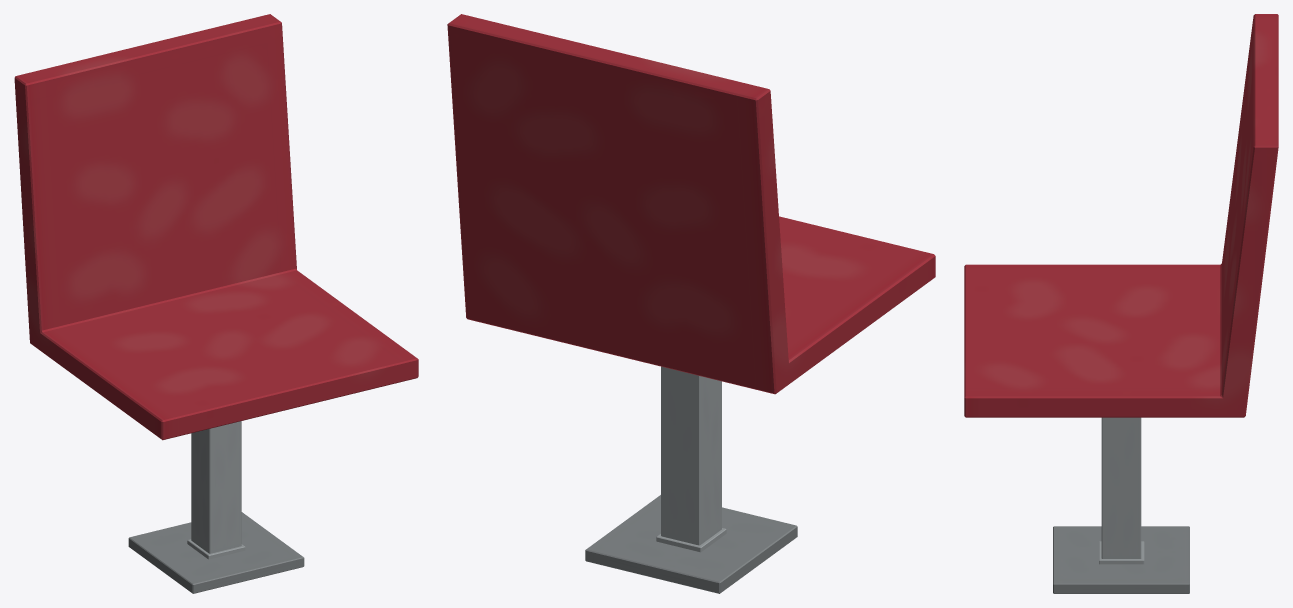
The model's file is fixed_chair_red.glb.
3 views of the same model, side by side, from view 1: azimuth 30°, elevation 25°; view 2: azimuth 150°, elevation 25°; view 3: azimuth 270°, elevation 25° (orthographic). The views are drawn at different scales.
Parts seen in each view (by area): view 1: core_fixed_chair_red; view 2: core_fixed_chair_red; view 3: core_fixed_chair_red.
Boxes of the visible parts, <box> form: core_fixed_chair_red: <box>14,14,418,593</box>; core_fixed_chair_red: <box>447,14,935,593</box>; core_fixed_chair_red: <box>964,14,1278,593</box>.
Size of the model in its own units: 0.54 by 0.92 by 0.5397.
Materials: 2 (2 with a texture image).
